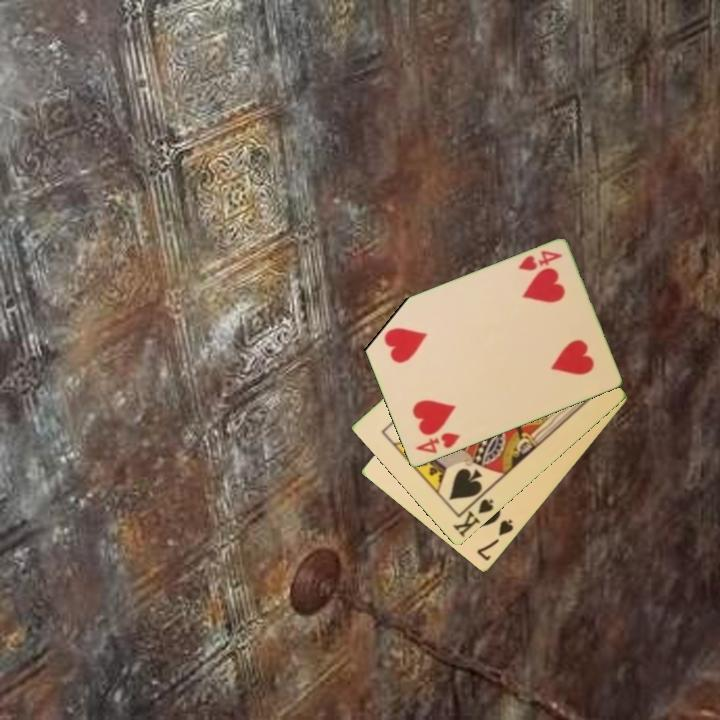4h: (412, 429, 463, 457), (514, 247, 565, 274)
7s: (473, 516, 516, 564)
Ks: (449, 488, 497, 540)
